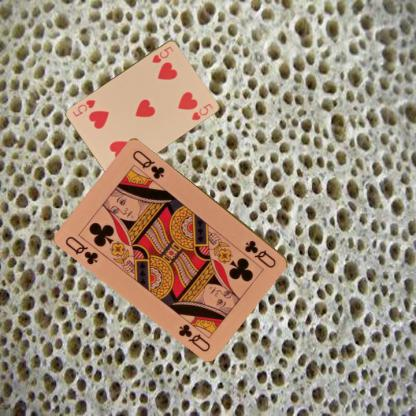5h: (150, 43, 174, 64)
Qc: (63, 233, 100, 266), (242, 237, 278, 269)
